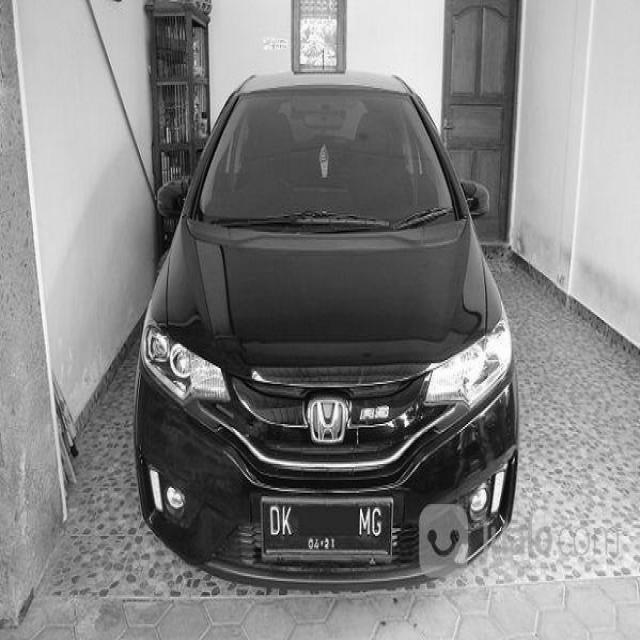D: (268, 506, 282, 536)
G: (370, 508, 384, 538)
K: (281, 506, 293, 536)
M: (354, 506, 370, 538)
